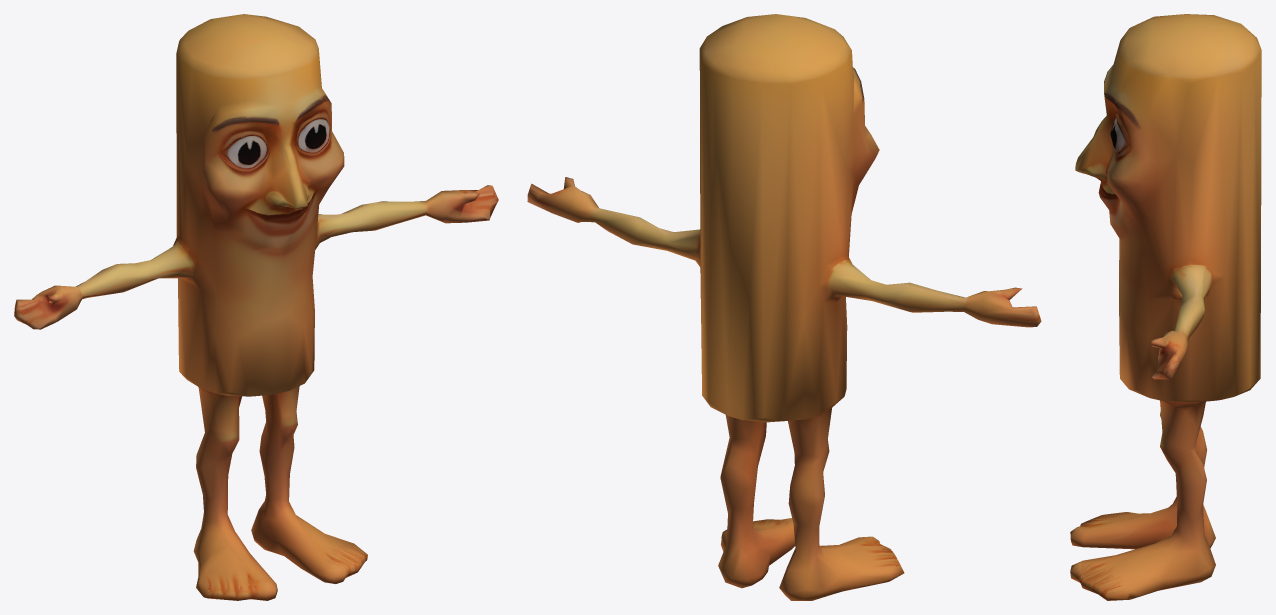
File: StoreTungTung-tpose-game-1200.glb
3 views of the same model, side by side, from view 1: azimuth 30°, elevation 25°; view 2: azimuth 150°, elevation 25°; view 3: azimuth 270°, elevation 25° (orthographic). The views are drawn at different scales.
Visible parts, largest first — view 1: material; view 2: material; view 3: material.
Boxes of the visible parts, x1,y1,x2,y2 form: material: [14, 14, 498, 600]; material: [527, 14, 1041, 600]; material: [1070, 14, 1261, 600].
Size of the model in its own units: 1.08 by 1.13 by 0.363.
Materials: 1 (1 with a texture image).
